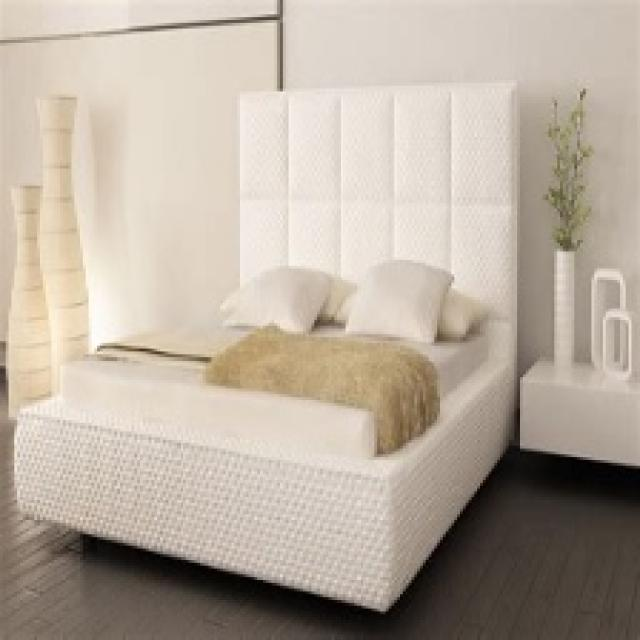Bed: (11, 80, 520, 614)
